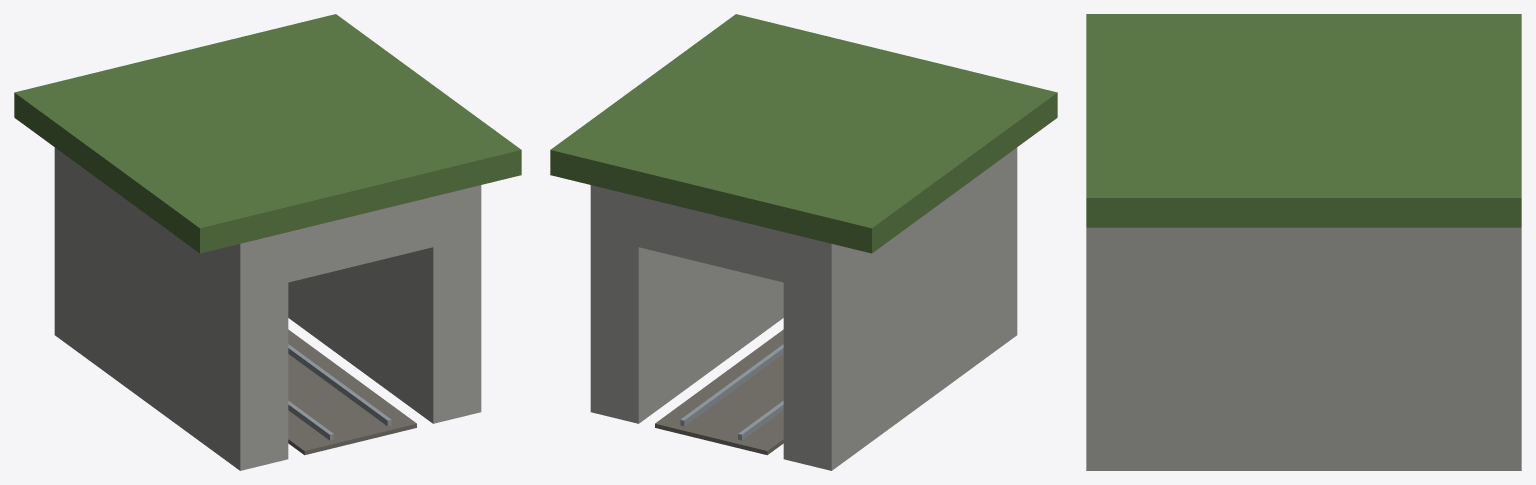
The model's file is road_rail_viii_tunnel_lod2.glb.
3 views of the same model, side by side, from view 1: azimuth 30°, elevation 25°; view 2: azimuth 150°, elevation 25°; view 3: azimuth 270°, elevation 25° (orthographic). The views are drawn at different scales.
Visible parts, largest first — view 1: body; view 2: body; view 3: body.
Boxes of the visible parts, <box> form: body: <box>14,14,521,470</box>; body: <box>550,14,1057,470</box>; body: <box>1086,14,1521,470</box>.
Bounding box in the file's own units: 8 × 6 × 8.
